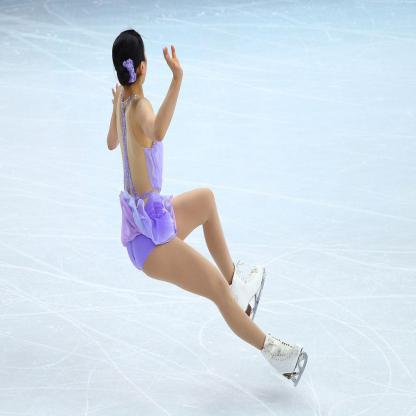Fall_Down: (106, 29, 304, 382)
